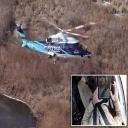helicopter: (16, 19, 98, 63)
